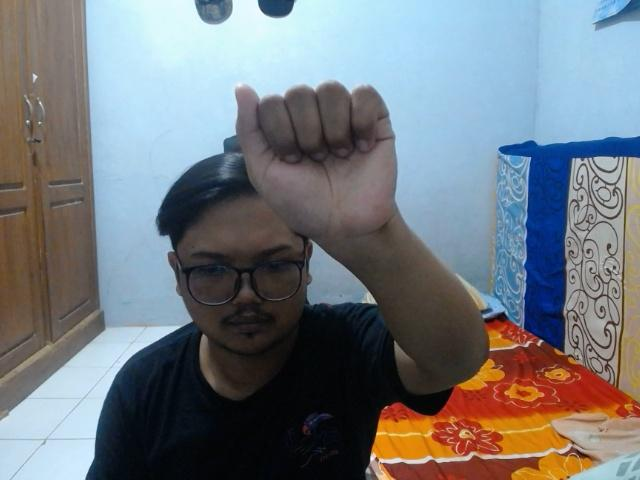Grab: (228, 72, 402, 241)
